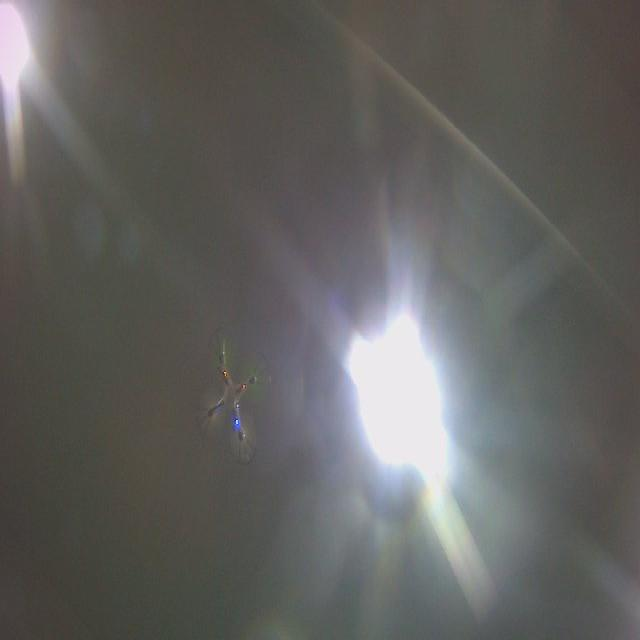drone: (192, 322, 274, 467)
